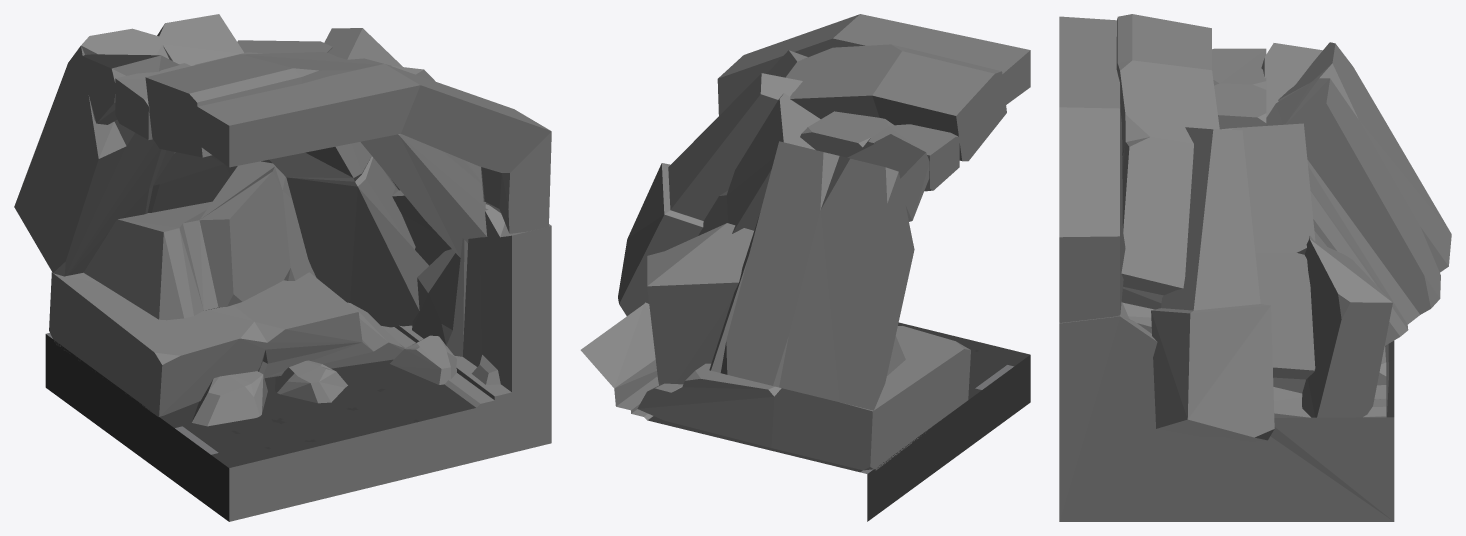
File: SM_Env_Motorway_Tunnel_Destroyed_Right_01.glb
The picture shows the model from 3 angles, left to right: view 1: azimuth 30°, elevation 25°; view 2: azimuth 150°, elevation 25°; view 3: azimuth 270°, elevation 25°; orthographic projection. The views are drawn at different scales.
Visible parts, largest first — view 1: SM_Env_Motorway_Tunnel_Destroyed_Right_01; view 2: SM_Env_Motorway_Tunnel_Destroyed_Right_01; view 3: SM_Env_Motorway_Tunnel_Destroyed_Right_01.
Boxes of the visible parts, left/top/right/bottom form: SM_Env_Motorway_Tunnel_Destroyed_Right_01: left=14, top=14, right=551, bottom=521; SM_Env_Motorway_Tunnel_Destroyed_Right_01: left=580, top=14, right=1030, bottom=521; SM_Env_Motorway_Tunnel_Destroyed_Right_01: left=1059, top=14, right=1451, bottom=521.
Size of the model in its own units: 7.61 by 7.56 by 7.39.
Materials: 1 (1 with a texture image).
